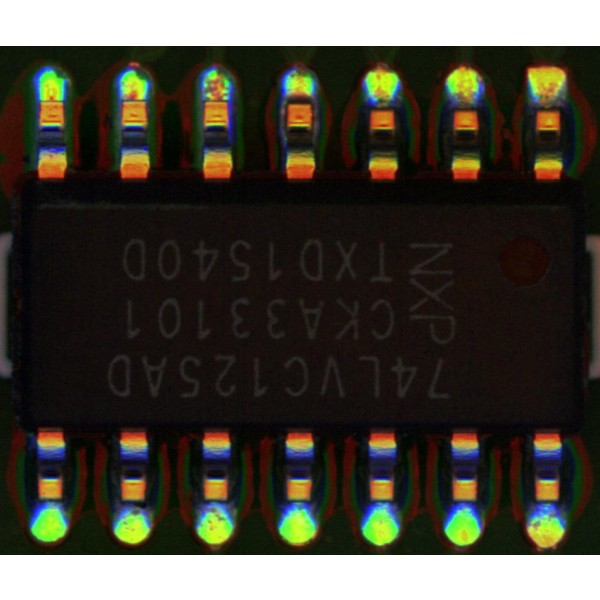Bad_podu: (41, 88, 60, 112), (205, 91, 227, 109), (125, 86, 143, 107)
